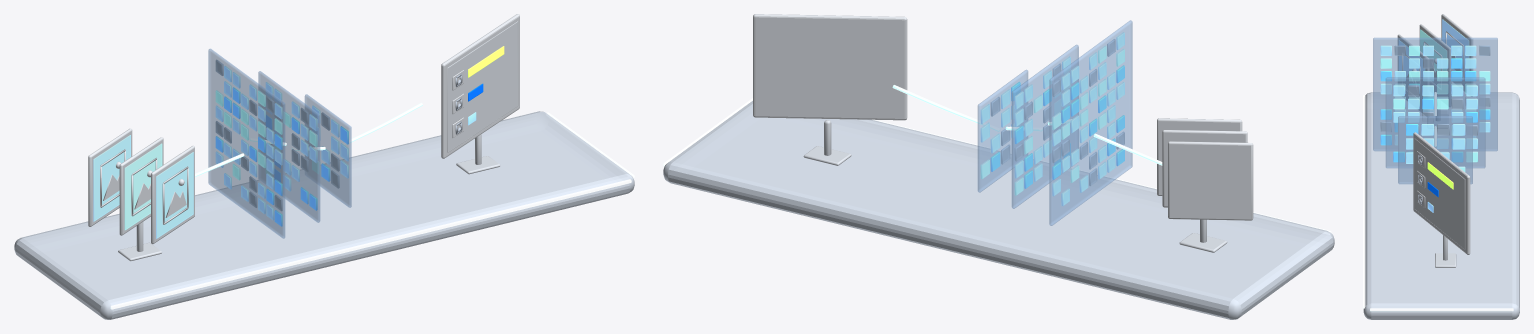
File: project-image-classifier.glb
3 views of the same model, side by side, from view 1: azimuth 30°, elevation 25°; view 2: azimuth 150°, elevation 25°; view 3: azimuth 270°, elevation 25° (orthographic). The views are drawn at different scales.
Parts seen in each view (by area): view 1: Base, ConvLayer01, InputImages, ClassScores, ConvLayer02, ConvLayer03, DataPaths; view 2: Base, ClassScores, ConvLayer01, InputImages, ConvLayer02, ConvLayer03, DataPaths; view 3: Base, ConvLayer01, ConvLayer02, ClassScores, ConvLayer03, InputImages, DataPaths.
Part boxes in pixels (x1=…): Base: x1=14, y1=111, x2=634, y2=319; ConvLayer01: x1=208, y1=48, x2=285, y2=238; InputImages: x1=88, y1=128, x2=194, y2=261; ClassScores: x1=441, y1=14, x2=519, y2=174; ConvLayer02: x1=258, y1=71, x2=320, y2=222; ConvLayer03: x1=304, y1=94, x2=351, y2=207; DataPaths: x1=195, y1=102, x2=422, y2=176; Base: x1=663, y1=98, x2=1334, y2=319; ClassScores: x1=753, y1=14, x2=907, y2=165; ConvLayer01: x1=1049, y1=20, x2=1132, y2=225; InputImages: x1=1157, y1=118, x2=1253, y2=252; ConvLayer02: x1=1011, y1=44, x2=1078, y2=208; ConvLayer03: x1=977, y1=69, x2=1028, y2=192; DataPaths: x1=892, y1=85, x2=1162, y2=165; Base: x1=1363, y1=92, x2=1519, y2=319; ConvLayer01: x1=1373, y1=37, x2=1497, y2=151; ConvLayer02: x1=1385, y1=77, x2=1485, y2=168; ClassScores: x1=1413, y1=132, x2=1470, y2=267; ConvLayer03: x1=1398, y1=116, x2=1472, y2=184; InputImages: x1=1397, y1=14, x2=1473, y2=126; DataPaths: x1=1434, y1=92, x2=1436, y2=146.
Size of the model in its own units: 8.21 by 2.53 by 2.51.
